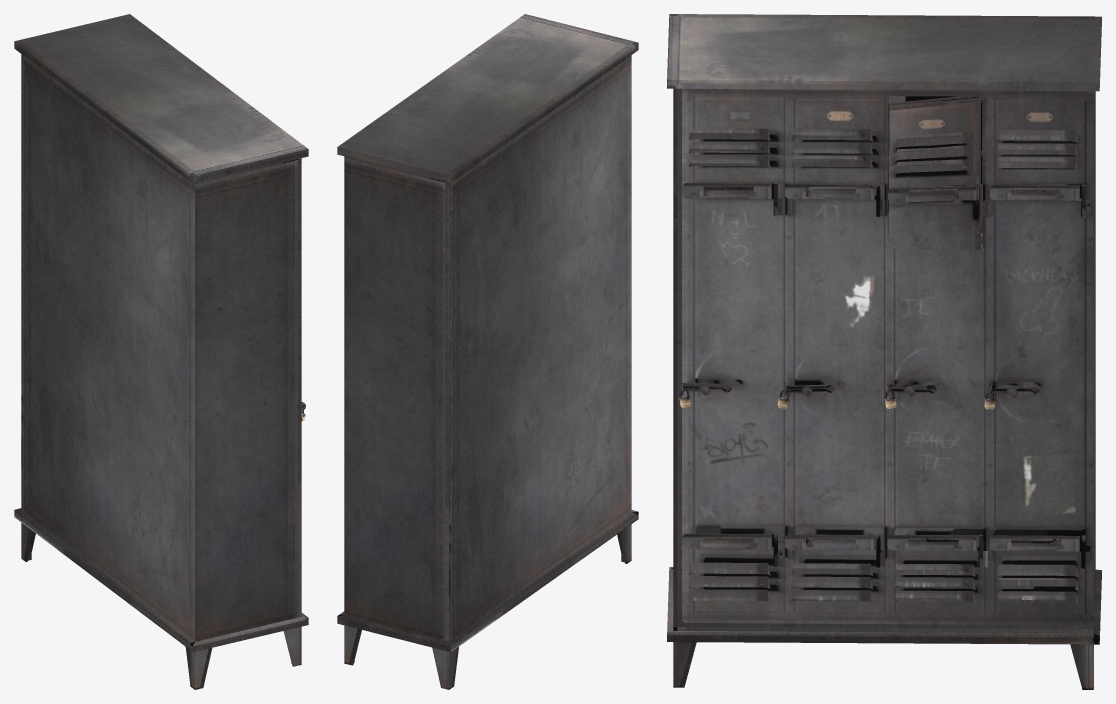
File: locker.glb
3 views of the same model, side by side, from view 1: azimuth 30°, elevation 25°; view 2: azimuth 150°, elevation 25°; view 3: azimuth 270°, elevation 25° (orthographic). The views are drawn at different scales.
Parts seen in each view (by area): view 1: Material158-material-material; view 2: Material158-material-material; view 3: Material158-material-material.
Part boxes in pixels (x1,y1,x2,y2): Material158-material-material: [14, 14, 308, 689]; Material158-material-material: [337, 14, 638, 689]; Material158-material-material: [667, 14, 1101, 689].
Size of the model in its own units: 0.4802 by 1.89 by 1.22.
Materials: 1 (1 with a texture image).
